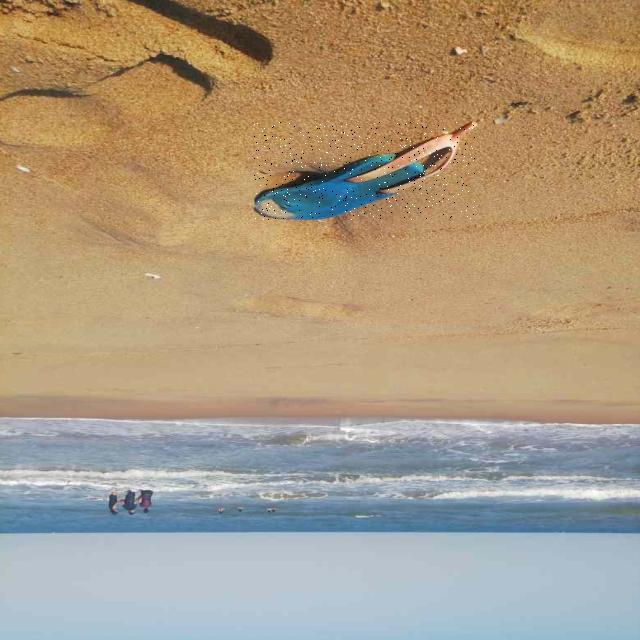other: (254, 122, 475, 219)
